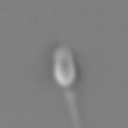normal: (51, 88, 91, 128)
